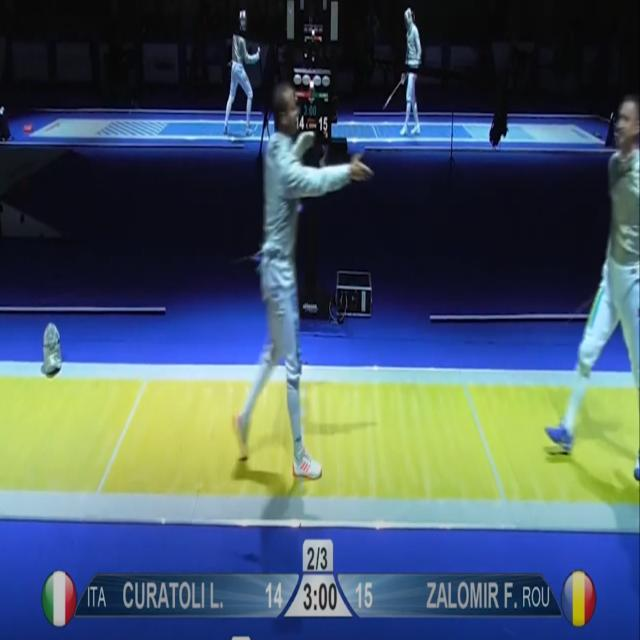fencer: (248, 93, 329, 498), (585, 100, 639, 480)
overlayLeft: (79, 570, 248, 618)
overlayRight: (386, 574, 561, 618)
scoreLeft: (252, 574, 302, 618)
scoreRight: (337, 573, 383, 618)
